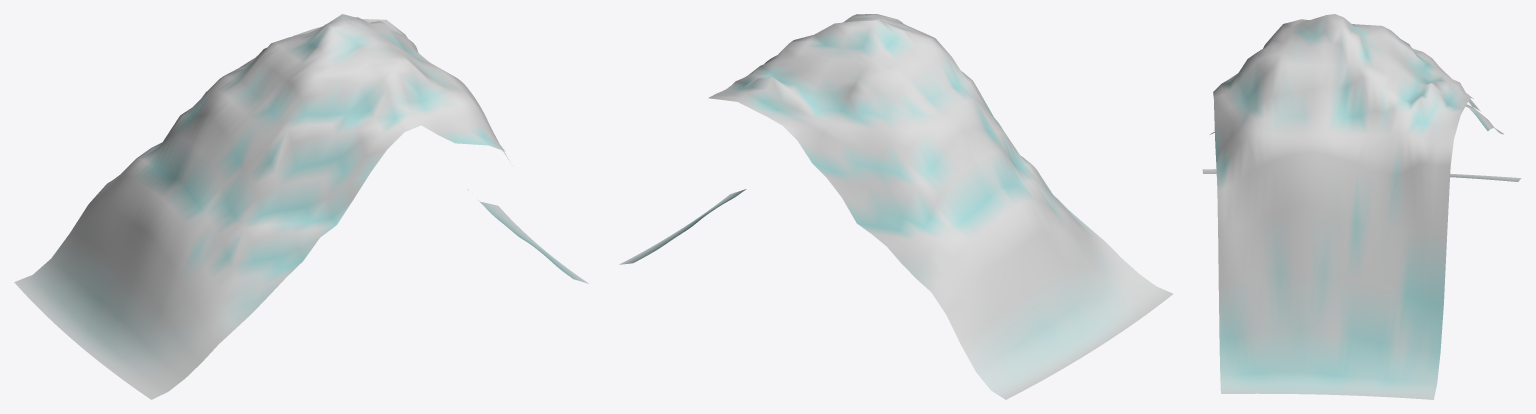
The model's file is near_2.glb.
The picture shows the model from 3 angles, left to right: view 1: azimuth 30°, elevation 25°; view 2: azimuth 150°, elevation 25°; view 3: azimuth 270°, elevation 25°; orthographic projection. The views are drawn at different scales.
Visible parts, largest first — view 1: Mountain; view 2: Mountain; view 3: Mountain.
Part boxes in pixels (<box>): Mountain: <box>14,14,588,399</box>; Mountain: <box>619,14,1173,399</box>; Mountain: <box>1202,14,1521,399</box>.
Size of the model in its own units: 360 by 201 by 210.
